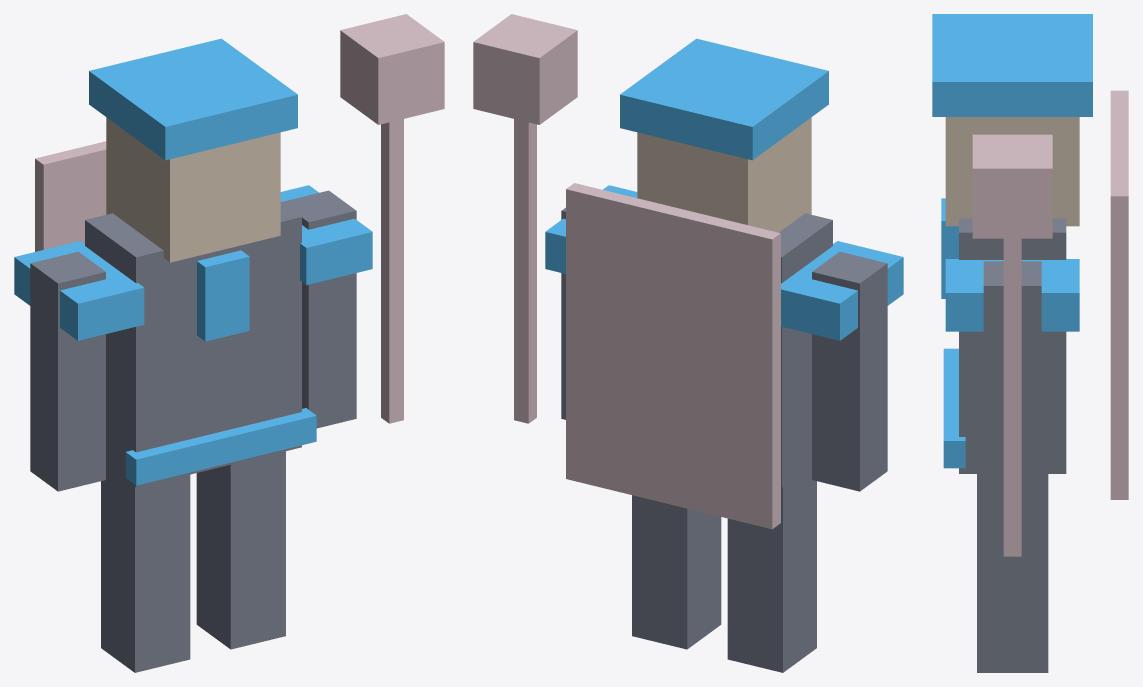
File: 08_nix_emberkin_runner_at_shuttle.glb
The picture shows the model from 3 angles, left to right: view 1: azimuth 30°, elevation 25°; view 2: azimuth 150°, elevation 25°; view 3: azimuth 270°, elevation 25°; orthographic projection. The views are drawn at different scales.
Visible parts, largest first — view 1: Nix Emberkin, Runner at Shuttle; view 2: Nix Emberkin, Runner at Shuttle; view 3: Nix Emberkin, Runner at Shuttle.
Part boxes in pixels (bbox=[...]): Nix Emberkin, Runner at Shuttle: bbox=[14, 14, 444, 672]; Nix Emberkin, Runner at Shuttle: bbox=[473, 14, 903, 672]; Nix Emberkin, Runner at Shuttle: bbox=[932, 14, 1128, 672].
Bounding box in the file's own units: 1.04 × 1.46 × 0.4437.
